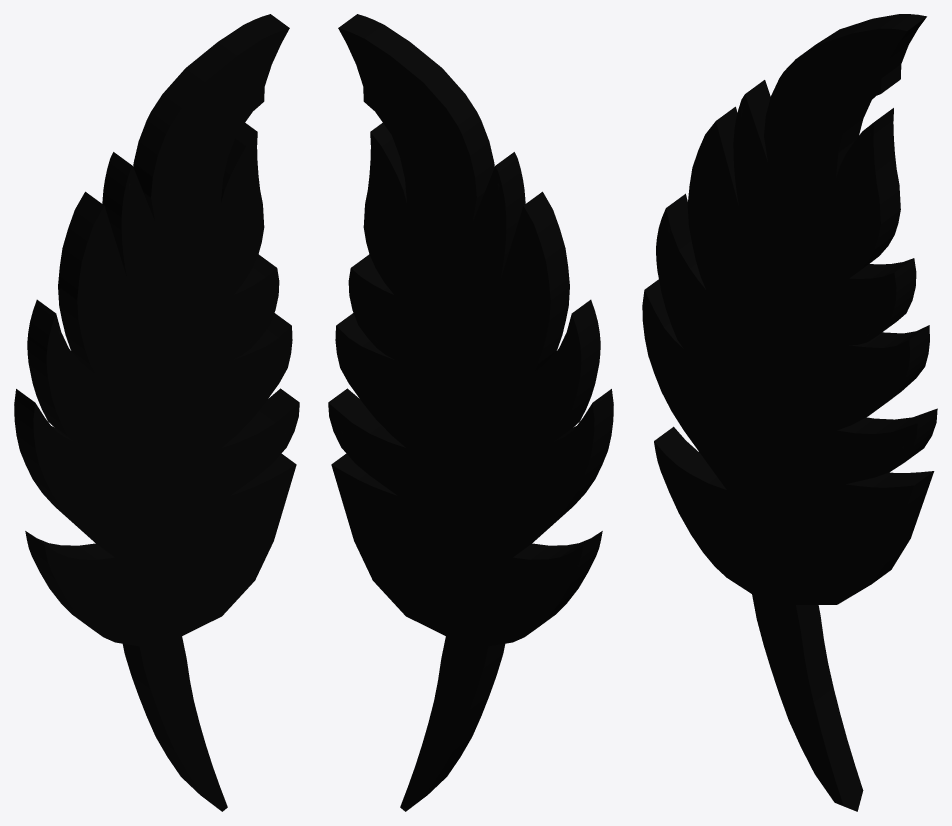
The model's file is Pluma.fbx.
3 views of the same model, side by side, from view 1: azimuth 30°, elevation 25°; view 2: azimuth 150°, elevation 25°; view 3: azimuth 330°, elevation 25° (orthographic). The views are drawn at different scales.
Parts seen in each view (by area): view 1: Box001; view 2: Box001; view 3: Box001.
Part boxes in pixels (<box>): Box001: <box>14,14,299,811</box>; Box001: <box>328,14,613,811</box>; Box001: <box>642,14,937,811</box>.
Bounding box in the file's own units: 47.89 × 133 × 6.
Materials: 1 (1 with a texture image).
